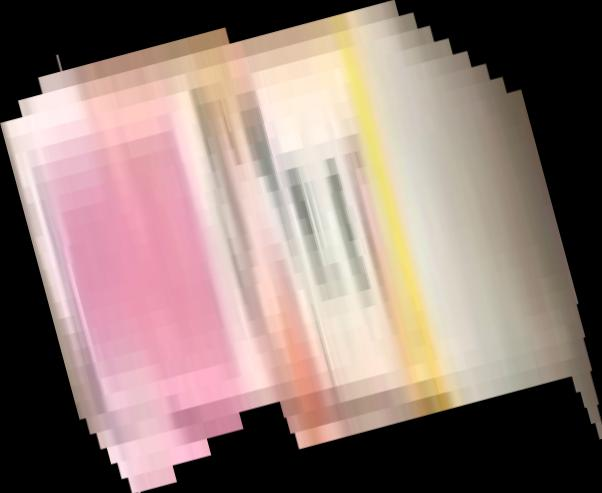flat: (1, 1, 602, 493)
